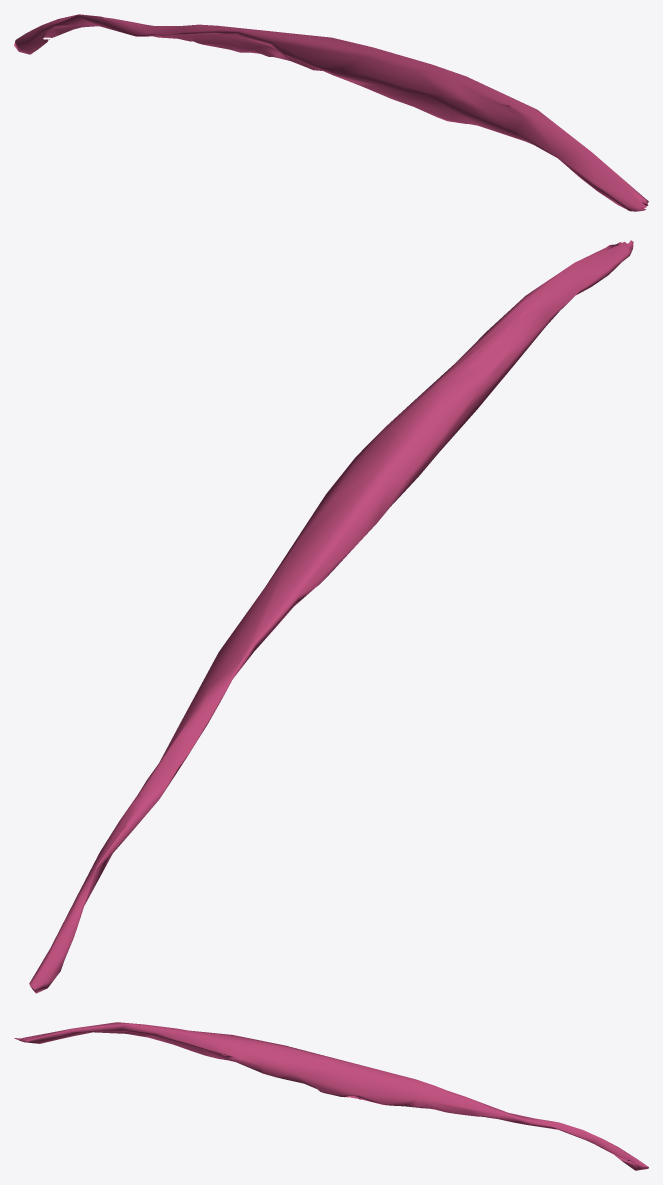
The picture shows the model from 3 angles, top to bottom: view 1: azimuth 30°, elevation 25°; view 2: azimuth 150°, elevation 25°; view 3: azimuth 270°, elevation 25°; orthographic projection. The views are drawn at different scales.
Parts seen in each view (by area): view 1: 右侧尺侧腕伸肌肱头; view 2: 右侧尺侧腕伸肌肱头; view 3: 右侧尺侧腕伸肌肱头.
Boxes of the visible parts, x1=… form: 右侧尺侧腕伸肌肱头: x1=14, y1=14, x2=648, y2=211; 右侧尺侧腕伸肌肱头: x1=29, y1=240, x2=633, y2=993; 右侧尺侧腕伸肌肱头: x1=14, y1=1022, x2=648, y2=1170.
Bounding box in the file's own units: 0.0282 × 0.114 × 0.4257.
